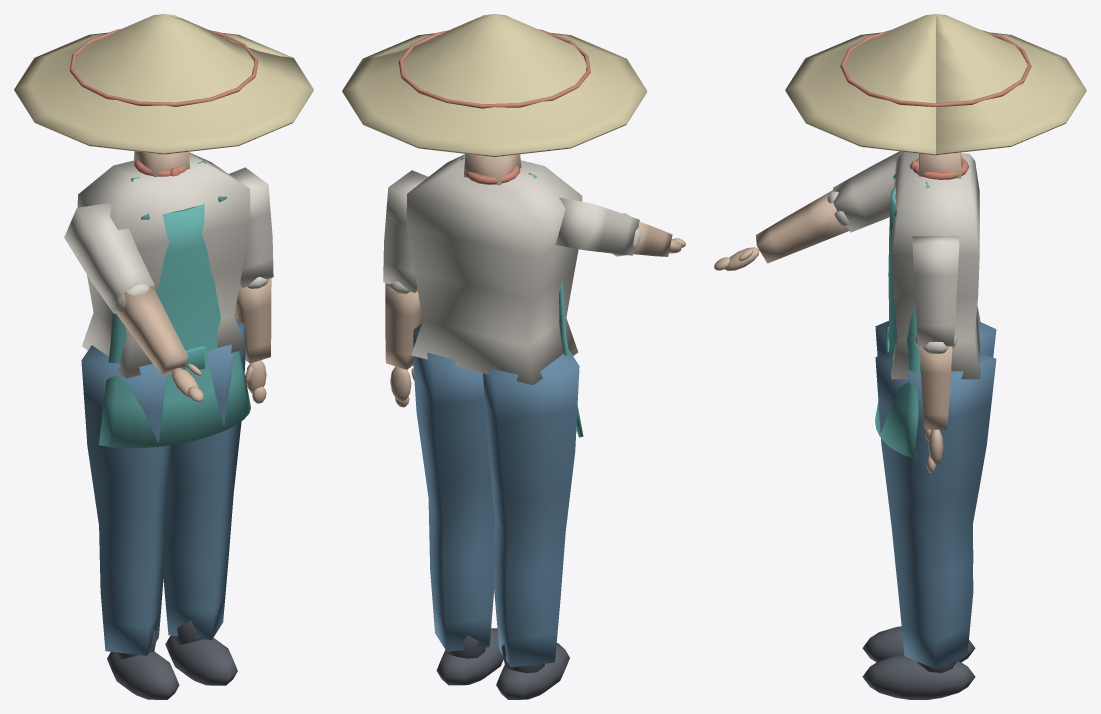
File: vendor-hai-dang.glb
3 views of the same model, side by side, from view 1: azimuth 30°, elevation 25°; view 2: azimuth 150°, elevation 25°; view 3: azimuth 270°, elevation 25° (orthographic).
Parts seen in each view (by area): view 1: vendor_body, arm_wave_mesh; view 2: vendor_body, arm_wave_mesh; view 3: vendor_body, arm_wave_mesh.
Part boxes in pixels (bbox=[...]): vendor_body: bbox=[14, 14, 313, 699]; arm_wave_mesh: bbox=[229, 167, 273, 403]; vendor_body: bbox=[342, 14, 685, 699]; arm_wave_mesh: bbox=[383, 170, 427, 407]; vendor_body: bbox=[714, 14, 1086, 699]; arm_wave_mesh: bbox=[912, 236, 959, 472].
Bounding box in the file's own units: 0.8 × 1.96 × 0.9882.
